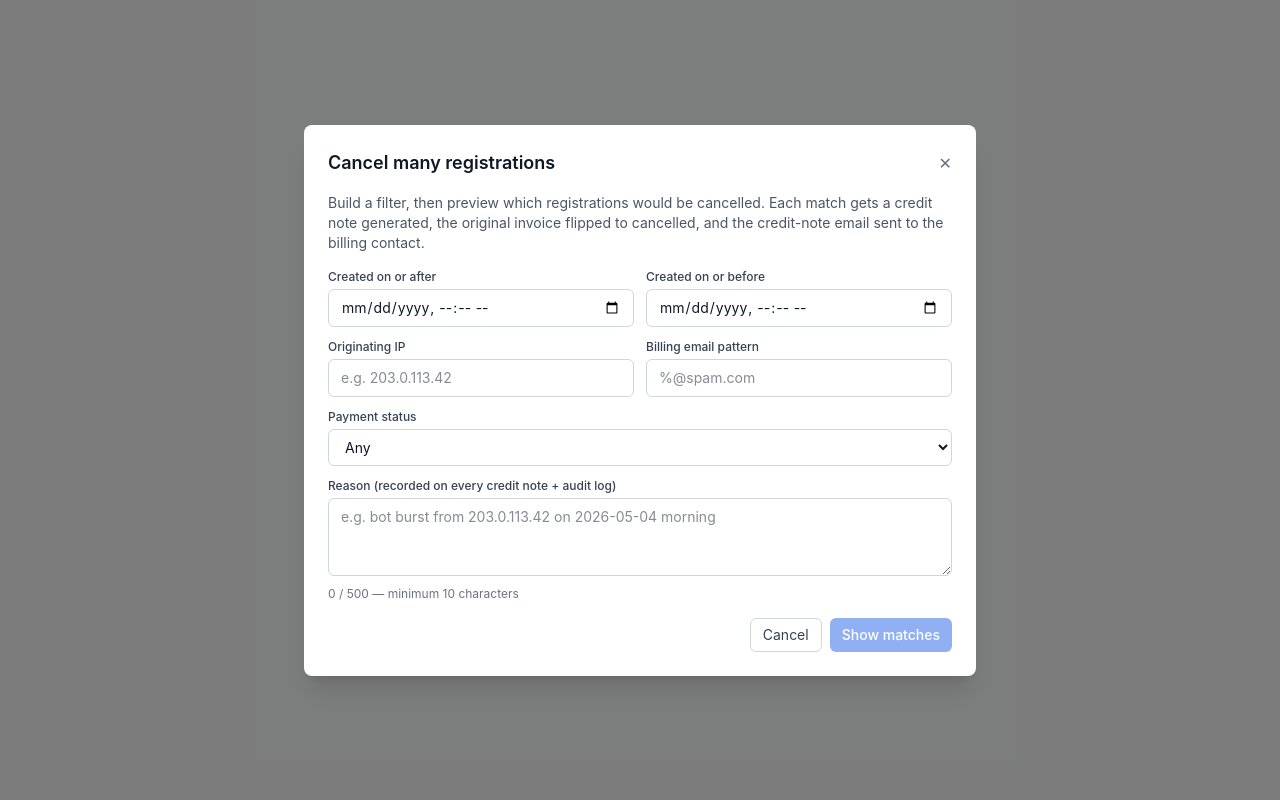
Scenario: BulkCancelDialog › blocks "Show matches" until reason is at least 10 characters
Expected: the button "Show matches" is disabled, x1=830 y1=618 x2=952 y2=652
In the text box with placeholder "e.g. bot burst from 203.0.113.42 on 2026-05-04 morning": (640, 536) x1=328 y1=498 x2=952 y2=576, type "short"
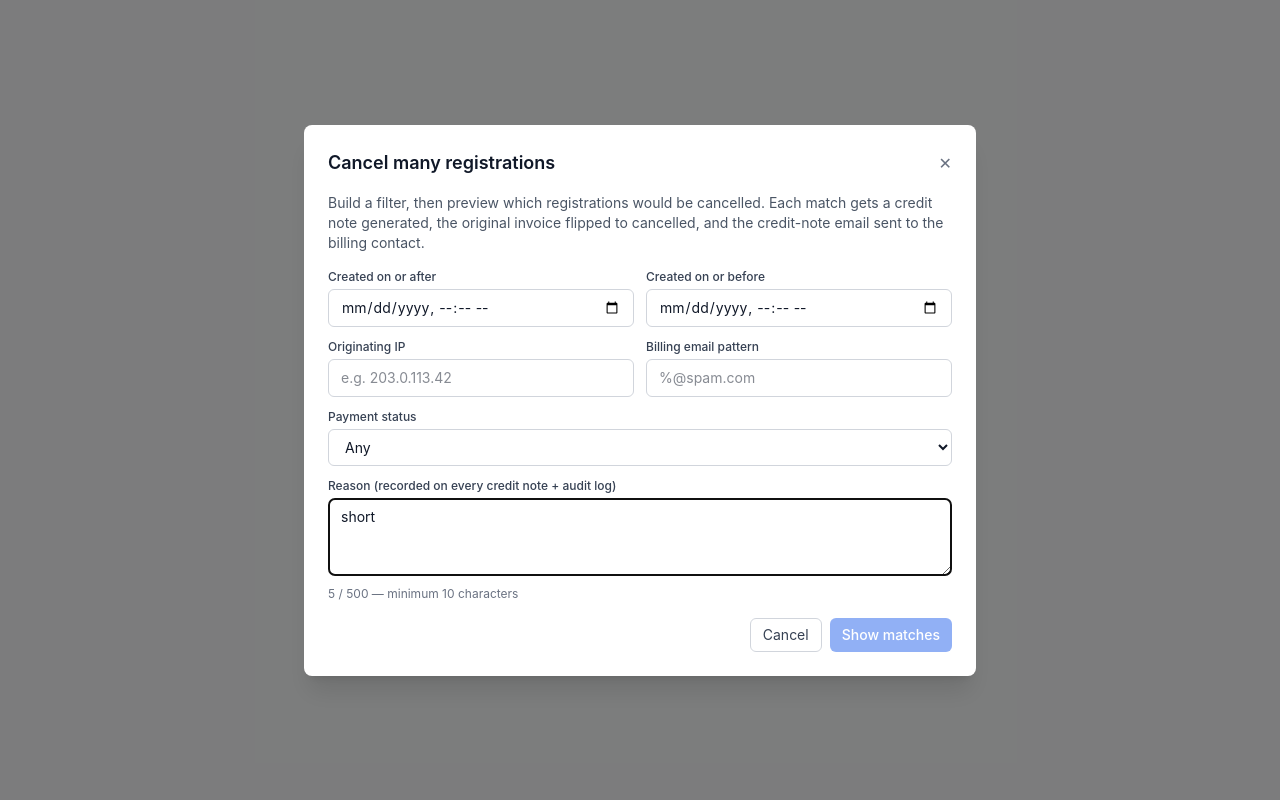
Expected: the button "Show matches" is disabled, x1=830 y1=618 x2=952 y2=652
In the text box with placeholder "e.g. bot burst from 203.0.113.42 on 2026-05-04 morning": (640, 536) x1=328 y1=498 x2=952 y2=576, type " bot 2026-05-04"
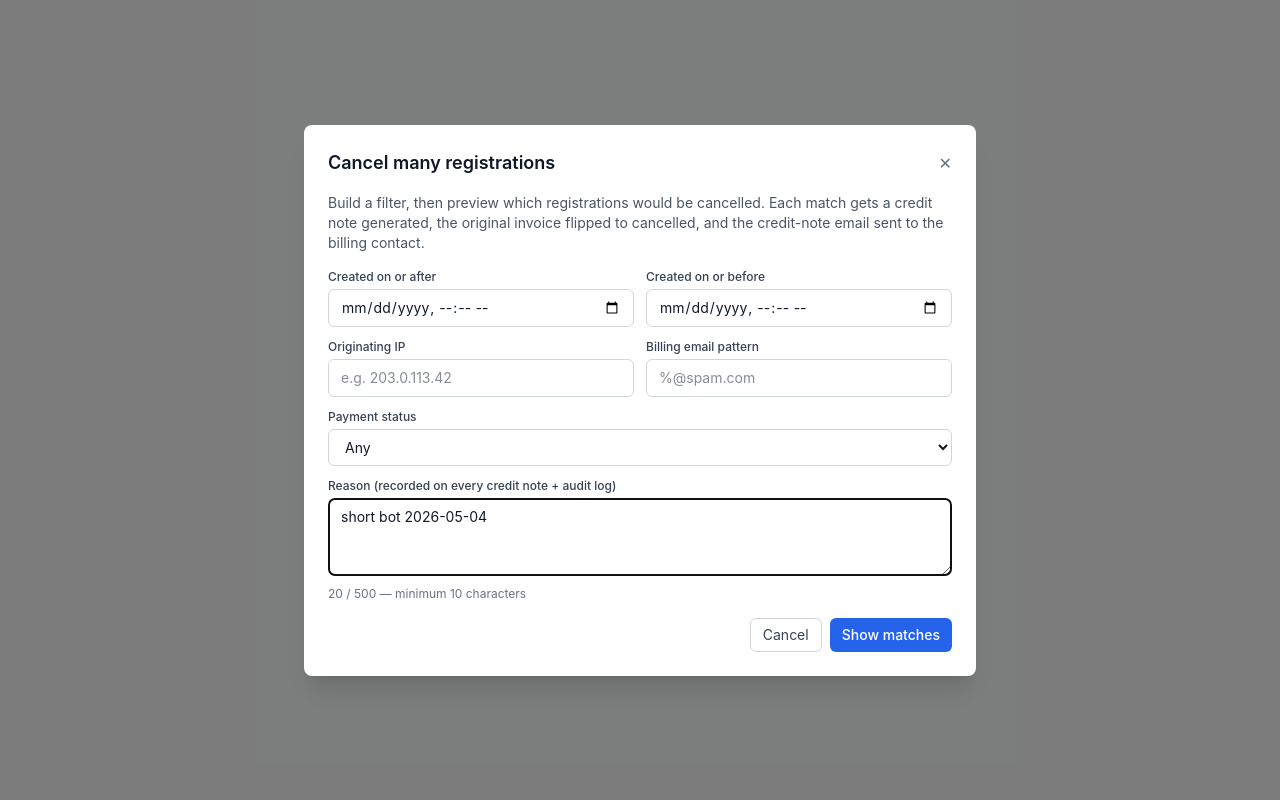
Result: the button "Show matches" is enabled at x1=830 y1=618 x2=952 y2=652
